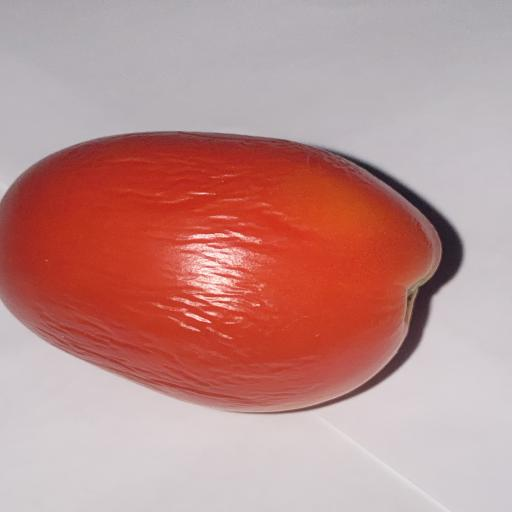spoiled: (0, 132, 440, 411)
